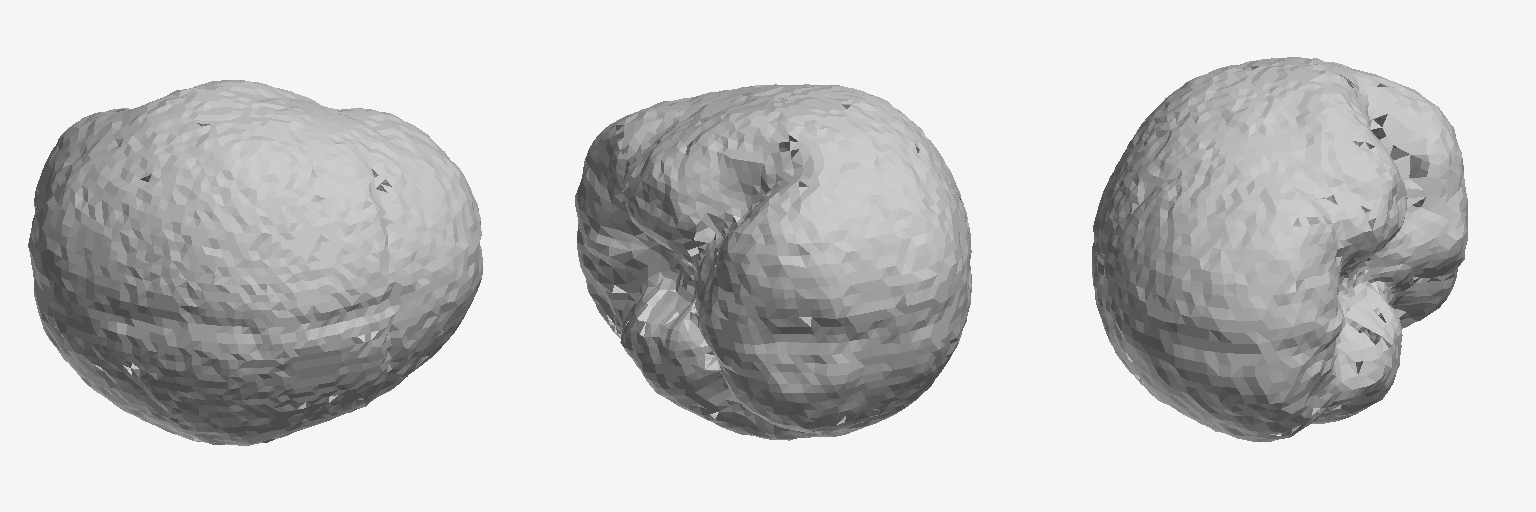
The model's file is neuron_mesh_simplified.obj.
3 renders of one model, left to right at view 1: azimuth 30°, elevation 25°; view 2: azimuth 150°, elevation 25°; view 3: azimuth 270°, elevation 25°, orthographic.
Bounding box in the file's own units: 186 × 146 × 154.